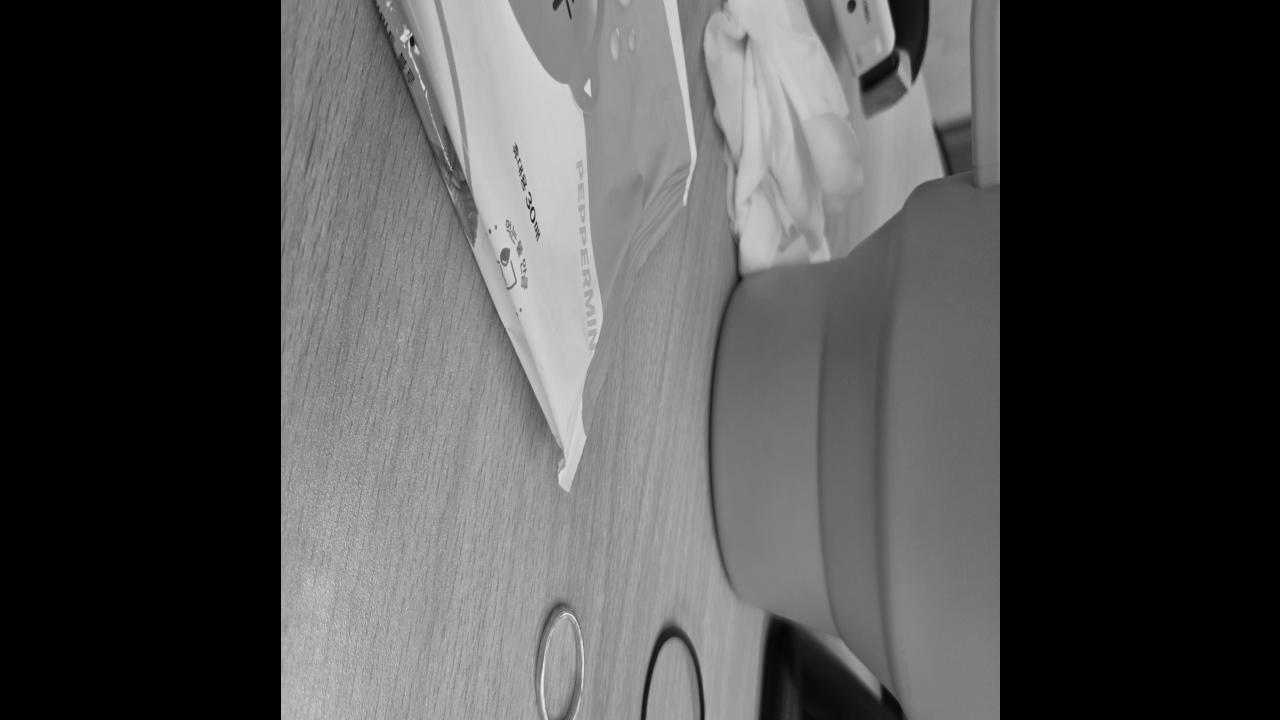ring: (531, 600, 585, 720)
